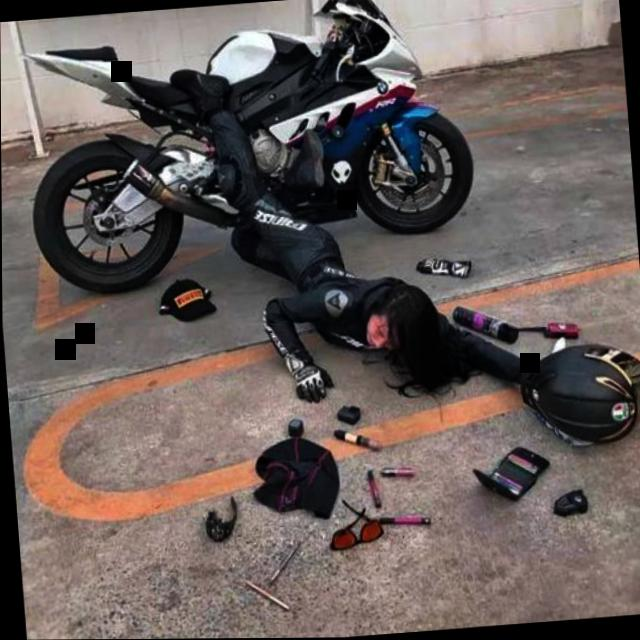Fall-Detected: (141, 23, 566, 445)
